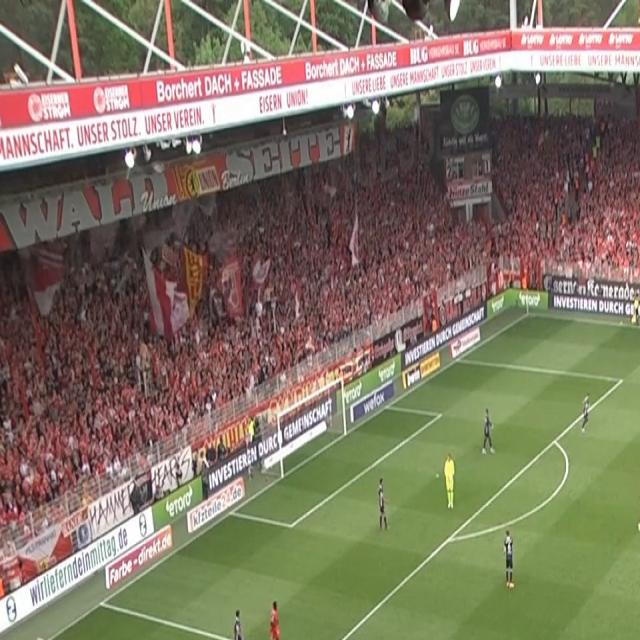ball: (448, 473, 455, 483)
